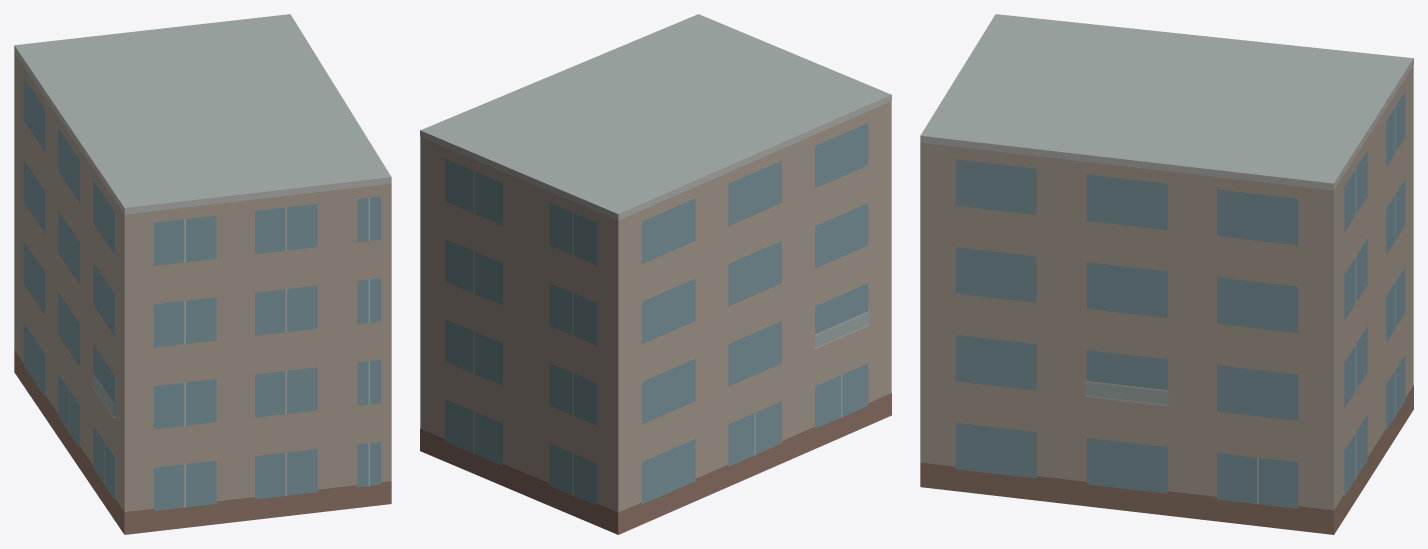
File: survey-upis-32880908.glb
3 views of the same model, side by side, from view 1: azimuth 30°, elevation 25°; view 2: azimuth 150°, elevation 25°; view 3: azimuth 270°, elevation 25° (orthographic). The views are drawn at different scales.
Visible parts, largest first — view 1: survey-upis-32880908.tmp; view 2: survey-upis-32880908.tmp; view 3: survey-upis-32880908.tmp.
Part boxes in pixels (bbox=[...]): survey-upis-32880908.tmp: bbox=[14, 14, 391, 534]; survey-upis-32880908.tmp: bbox=[420, 14, 891, 534]; survey-upis-32880908.tmp: bbox=[920, 14, 1413, 534].
Size of the model in its own units: 12.74 by 12.3 by 15.67.
